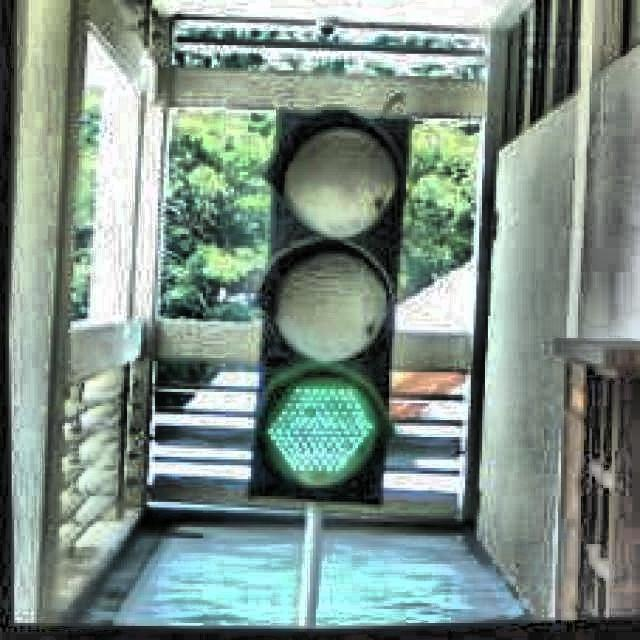green: (258, 110, 390, 506)
